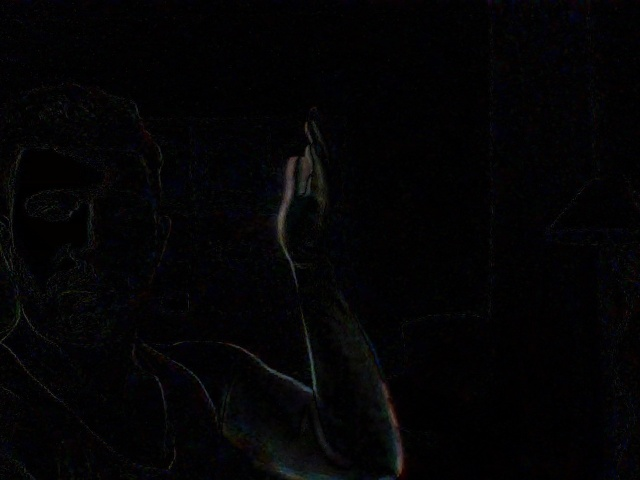arm_fo: (269, 110, 413, 480)
